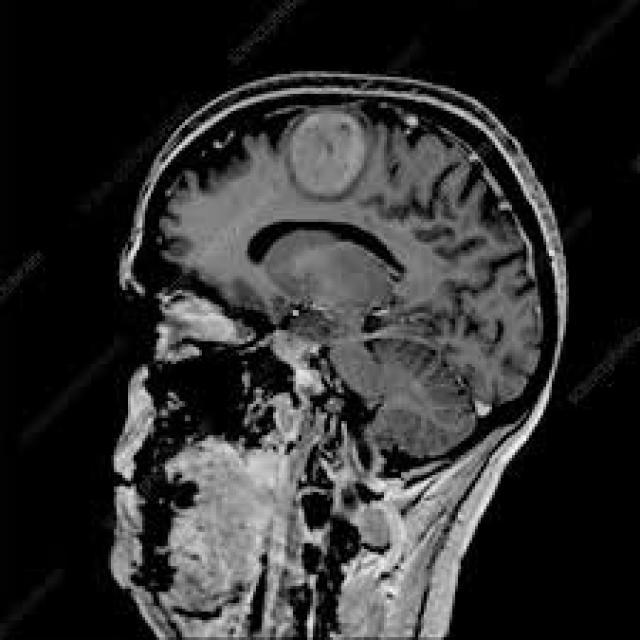glioma: (283, 108, 367, 204)
